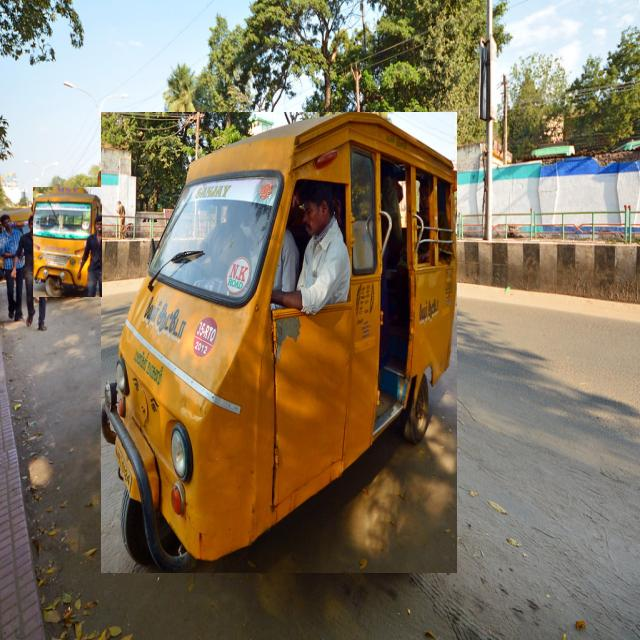autorickshaw: (101, 113, 456, 573), (33, 188, 101, 297)
